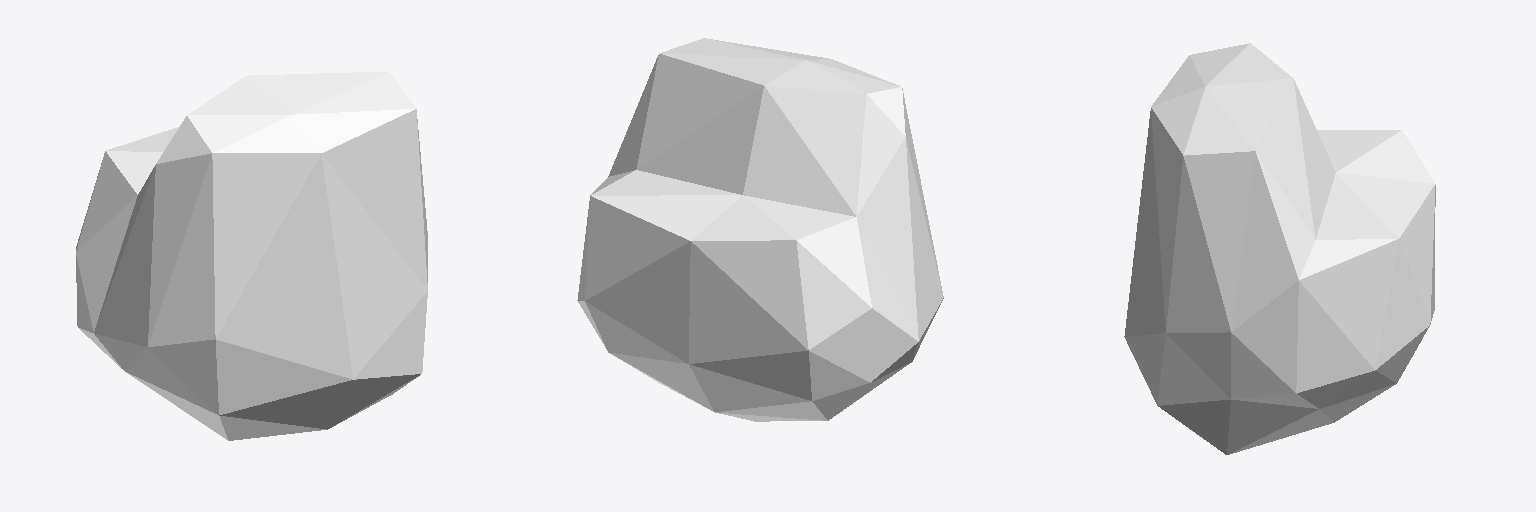
The model's file is oolite_alt_boulder.obj.
The picture shows the model from 3 angles: view 1: azimuth 30°, elevation 25°; view 2: azimuth 150°, elevation 25°; view 3: azimuth 270°, elevation 25°; orthographic projection.
Parts seen in each view (by area): view 1: oolite_alt_boulder.obj; view 2: oolite_alt_boulder.obj; view 3: oolite_alt_boulder.obj.
Part boxes in pixels (x1,y1,x2,y2): oolite_alt_boulder.obj: (76, 71, 427, 440); oolite_alt_boulder.obj: (577, 38, 943, 421); oolite_alt_boulder.obj: (1124, 43, 1435, 454).
Size of the model in its own units: 129 by 139 by 111.